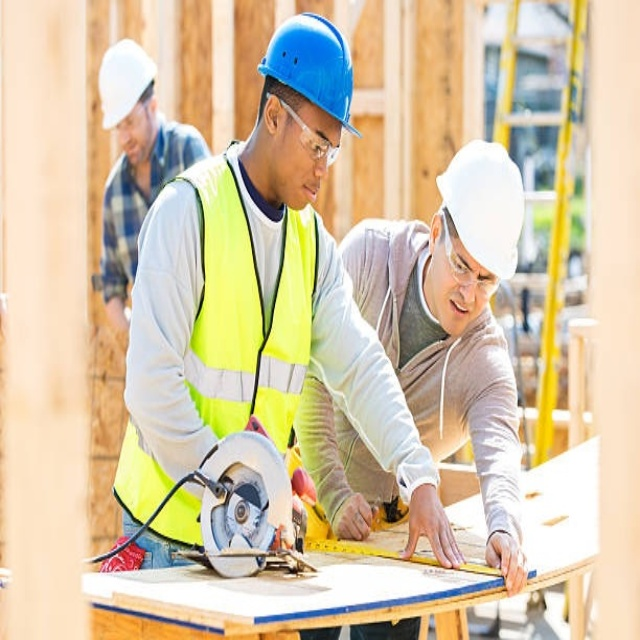Gafas: (442, 216, 503, 295), (279, 99, 342, 169), (107, 90, 149, 138)
Sin_guantes: (399, 487, 468, 572), (486, 526, 530, 597), (333, 491, 375, 542)
Sin_mascara: (441, 292, 472, 333), (285, 180, 321, 213)
